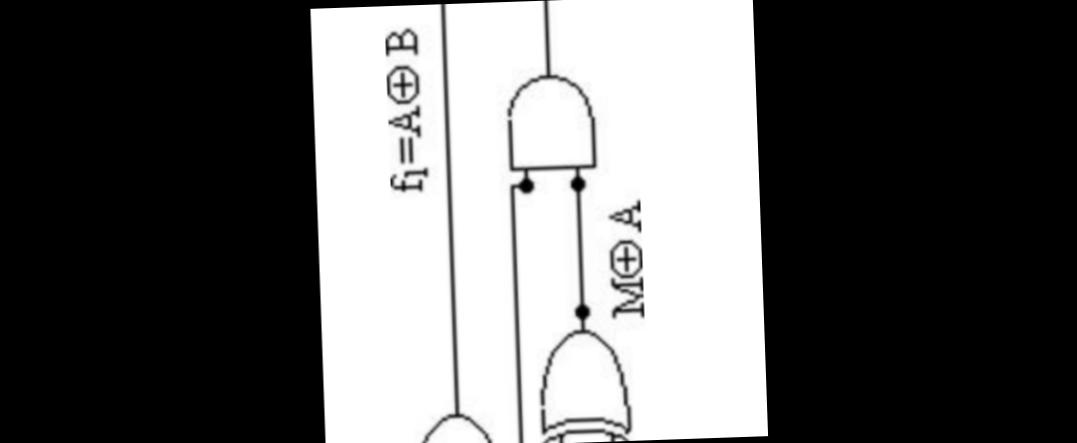and: (496, 61, 605, 177)
xor: (530, 318, 638, 443), (402, 399, 508, 443)
